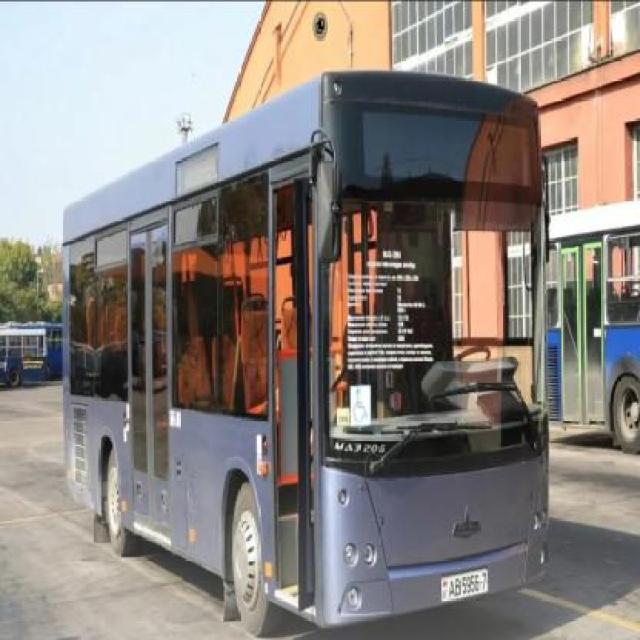bus: (60, 70, 547, 626), (2, 321, 64, 388)
